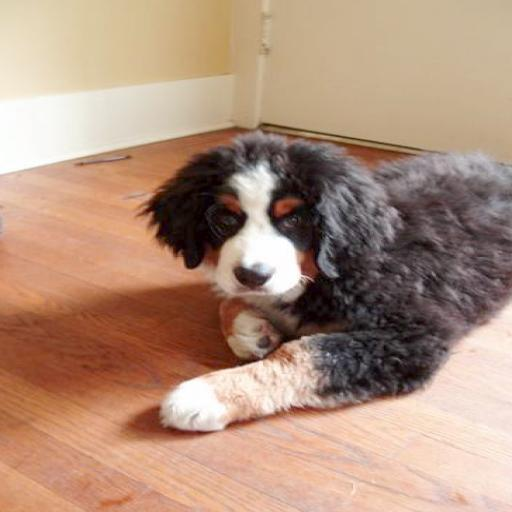dog_face: (141, 129, 367, 292)
